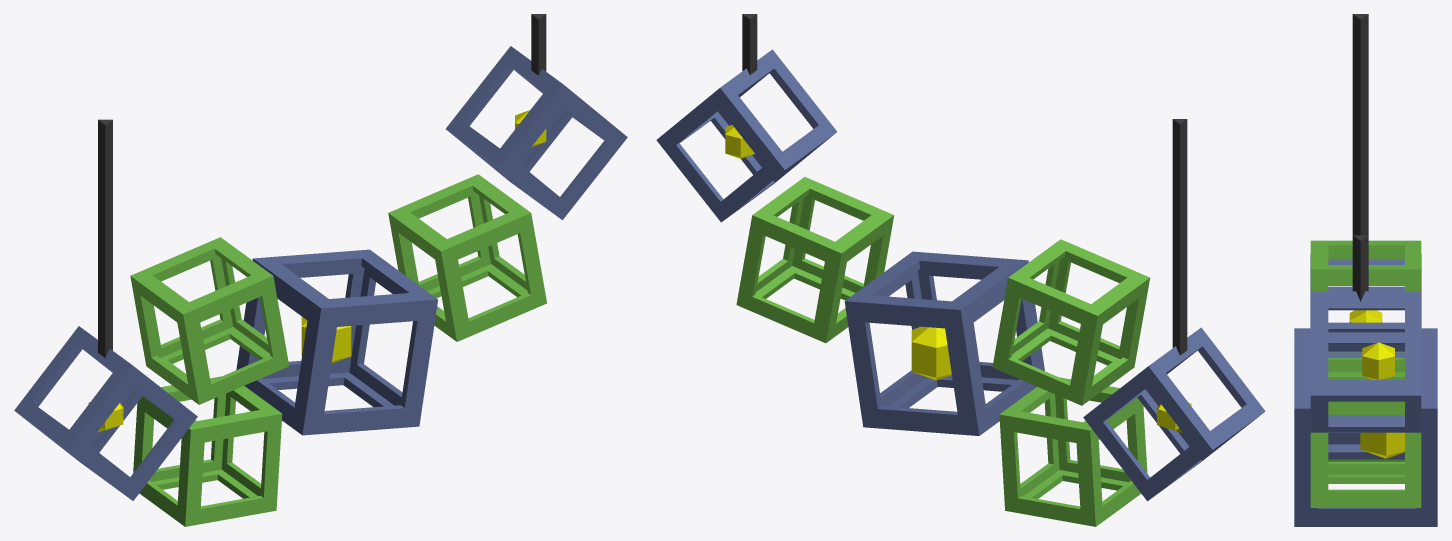
Rendered from chandelier.fbx.
3 renders of one model, left to right at view 1: azimuth 30°, elevation 25°; view 2: azimuth 150°, elevation 25°; view 3: azimuth 270°, elevation 25°, orthographic. The views are drawn at different scales.
Visible parts, largest first — view 1: PR_chandelier, PR_chandelier_cell.047, PR_chandelier_cell.039, PR_chandelier_cell.026, PR_chandelier_cell.003, PR_chandelier_cell.022, PR_chandelier_cell.025, PR_chandelier_cell.001, PR_chandelier_cell.051, PR_chandelier_cell.027, PR_chandelier_cell.052, PR_chandelier_cell.013 (+20 smaller); view 2: PR_chandelier, PR_chandelier_cell.043, PR_chandelier_cell.050, PR_chandelier_cell.045, PR_chandelier_cell.052, PR_chandelier_cell.006, PR_chandelier_cell.047, PR_chandelier_cell.020, PR_chandelier_cell.064, PR_chandelier_cell.046, PR_chandelier_cell.013, PR_chandelier_cell.018 (+14 smaller); view 3: PR_chandelier, PR_chandelier_cell.064, PR_chandelier_cell.013, PR_chandelier_cell.050, PR_chandelier_cell.056, PR_chandelier_cell.020, PR_chandelier_cell.047, PR_chandelier_cell.018, PR_chandelier_cell.052, PR_chandelier_cell.043, PR_chandelier_cell.005, PR_chandelier_cell.033 (+14 smaller).
Part boxes in pixels (box(x1,y1,x2,y2)): PR_chandelier: box(14, 14, 627, 526); PR_chandelier_cell.047: box(342, 264, 437, 379); PR_chandelier_cell.039: box(342, 363, 426, 431); PR_chandelier_cell.026: box(177, 415, 241, 526); PR_chandelier_cell.003: box(290, 280, 346, 395); PR_chandelier_cell.022: box(186, 462, 279, 526); PR_chandelier_cell.025: box(106, 410, 197, 500); PR_chandelier_cell.001: box(17, 369, 106, 480); PR_chandelier_cell.051: box(267, 388, 351, 435); PR_chandelier_cell.027: box(297, 325, 391, 406); PR_chandelier_cell.052: box(157, 262, 272, 360); PR_chandelier_cell.013: box(485, 197, 546, 322); PR_chandelier: box(676, 14, 1257, 526); PR_chandelier_cell.043: box(688, 49, 808, 167); PR_chandelier_cell.050: box(1001, 260, 1123, 359); PR_chandelier_cell.045: box(741, 197, 831, 295); PR_chandelier_cell.052: box(1043, 239, 1149, 330); PR_chandelier_cell.006: box(928, 299, 1010, 414); PR_chandelier_cell.047: box(871, 251, 993, 300); PR_chandelier_cell.020: box(738, 249, 848, 342); PR_chandelier_cell.064: box(656, 85, 752, 196); PR_chandelier_cell.046: box(701, 150, 810, 222); PR_chandelier_cell.013: box(769, 177, 844, 284); PR_chandelier_cell.018: box(1172, 119, 1187, 257); PR_chandelier: box(1294, 14, 1437, 526); PR_chandelier_cell.064: box(1310, 333, 1421, 421); PR_chandelier_cell.013: box(1310, 401, 1365, 507); PR_chandelier_cell.050: box(1368, 240, 1421, 291); PR_chandelier_cell.056: box(1311, 322, 1381, 432); PR_chandelier_cell.020: box(1335, 462, 1404, 483); PR_chandelier_cell.047: box(1294, 346, 1310, 408); PR_chandelier_cell.018: box(1353, 14, 1366, 173); PR_chandelier_cell.052: box(1310, 240, 1352, 286); PR_chandelier_cell.043: box(1310, 291, 1421, 333); PR_chandelier_cell.005: box(1360, 432, 1404, 458); PR_chandelier_cell.033: box(1352, 149, 1368, 235).
Size of the model in its own units: 1430 by 993 by 302.
